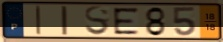5: (171, 6, 197, 38)
8: (143, 5, 167, 38)
E: (111, 6, 141, 36)
I: (59, 5, 69, 36), (34, 4, 43, 36)
S: (83, 5, 111, 37)
